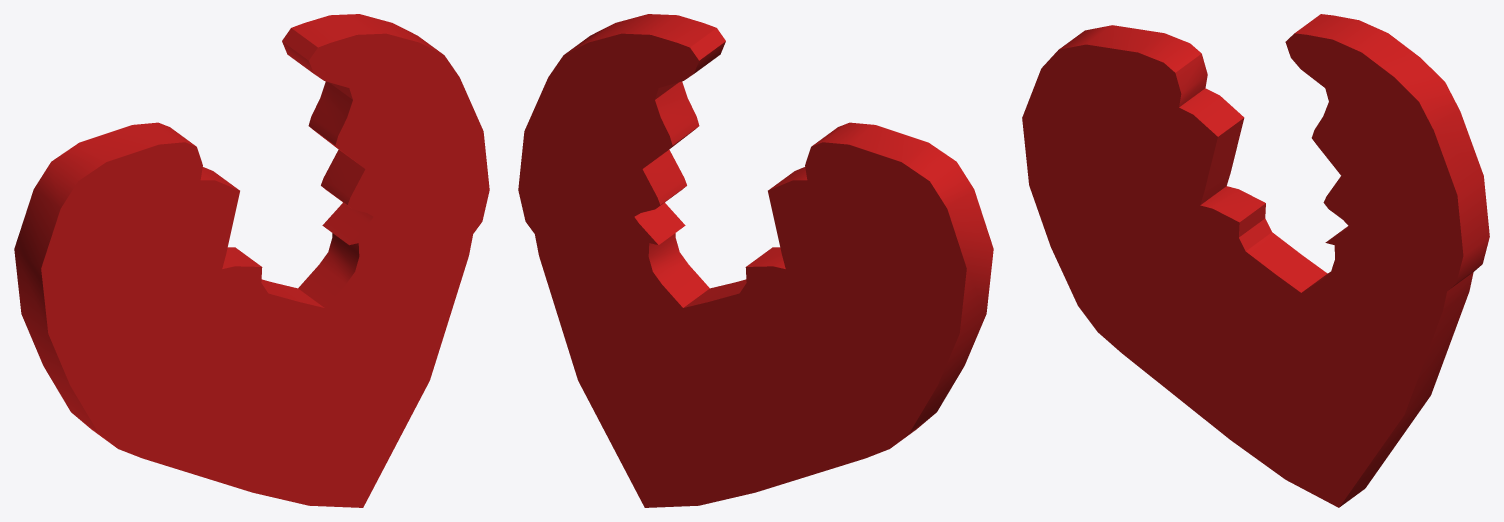
The model's file is broken_heart_body.obj.
The picture shows the model from 3 angles, left to right: view 1: azimuth 30°, elevation 25°; view 2: azimuth 150°, elevation 25°; view 3: azimuth 330°, elevation 25°; orthographic projection.
Visible parts, largest first — view 1: broken_heart_visual; view 2: broken_heart_visual; view 3: broken_heart_visual.
Boxes of the visible parts, x1,y1,x2,y2 form: broken_heart_visual: (14, 14, 489, 507); broken_heart_visual: (518, 14, 993, 507); broken_heart_visual: (1022, 14, 1489, 507).
Bounding box in the file's own units: 0.00964 × 0.00975 × 0.001.
